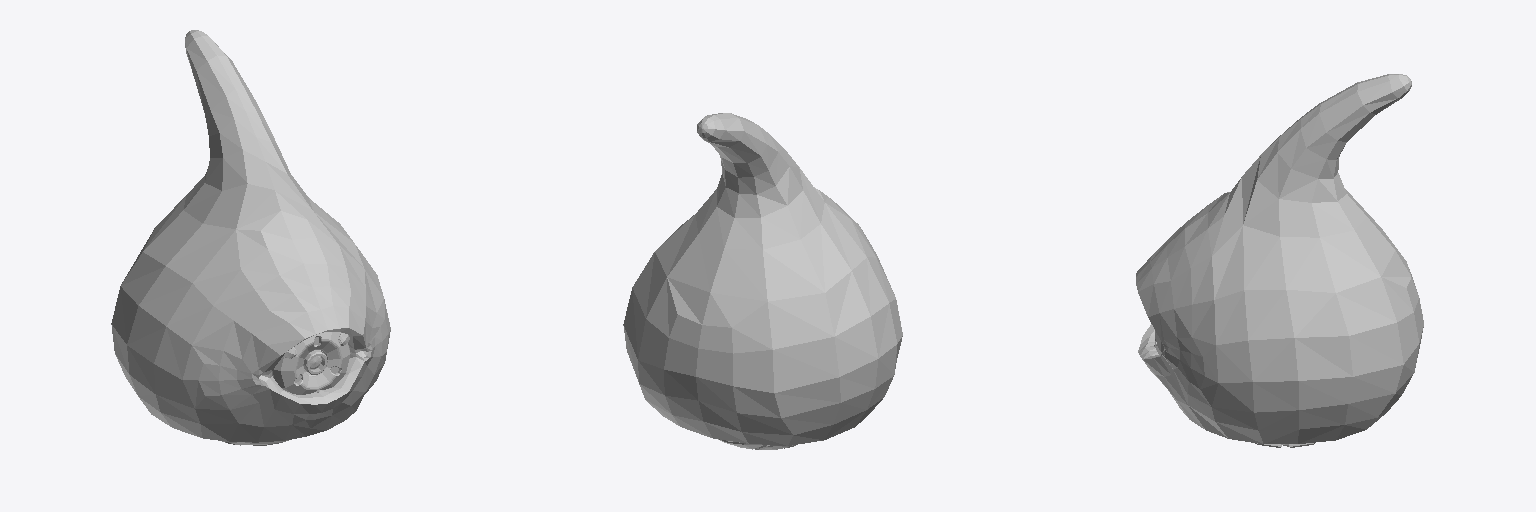
The model's file is scp131.obj.
3 views of the same model, side by side, from view 1: azimuth 30°, elevation 25°; view 2: azimuth 150°, elevation 25°; view 3: azimuth 270°, elevation 25° (orthographic).
Visible parts, largest first — view 1: scp131_body_low, scp131_eye_low; view 2: scp131_body_low; view 3: scp131_body_low.
Part boxes in pixels (left/top/right/bottom): scp131_body_low: left=111, top=30, right=390, bottom=442; scp131_eye_low: left=272, top=332, right=350, bottom=394; scp131_body_low: left=623, top=113, right=902, bottom=445; scp131_body_low: left=1136, top=74, right=1423, bottom=443.
Bounding box in the file's own units: 0.1637 × 0.2369 × 0.1709.